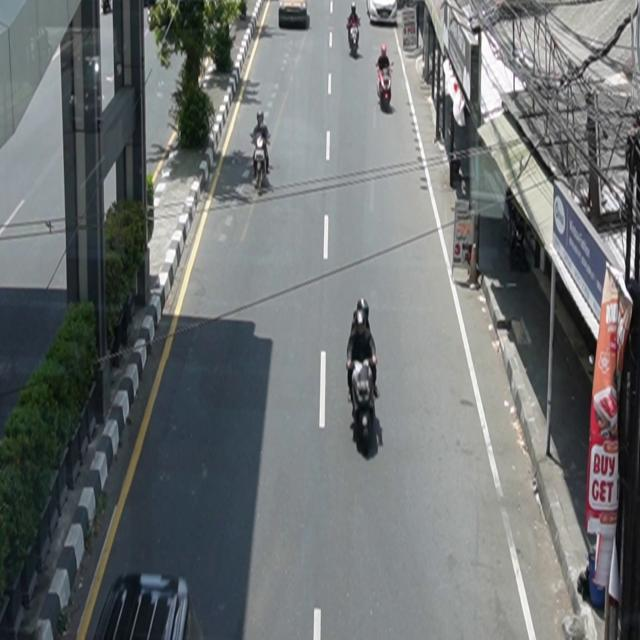car: (94, 573, 204, 640), (278, 1, 309, 29), (367, 1, 398, 26)
